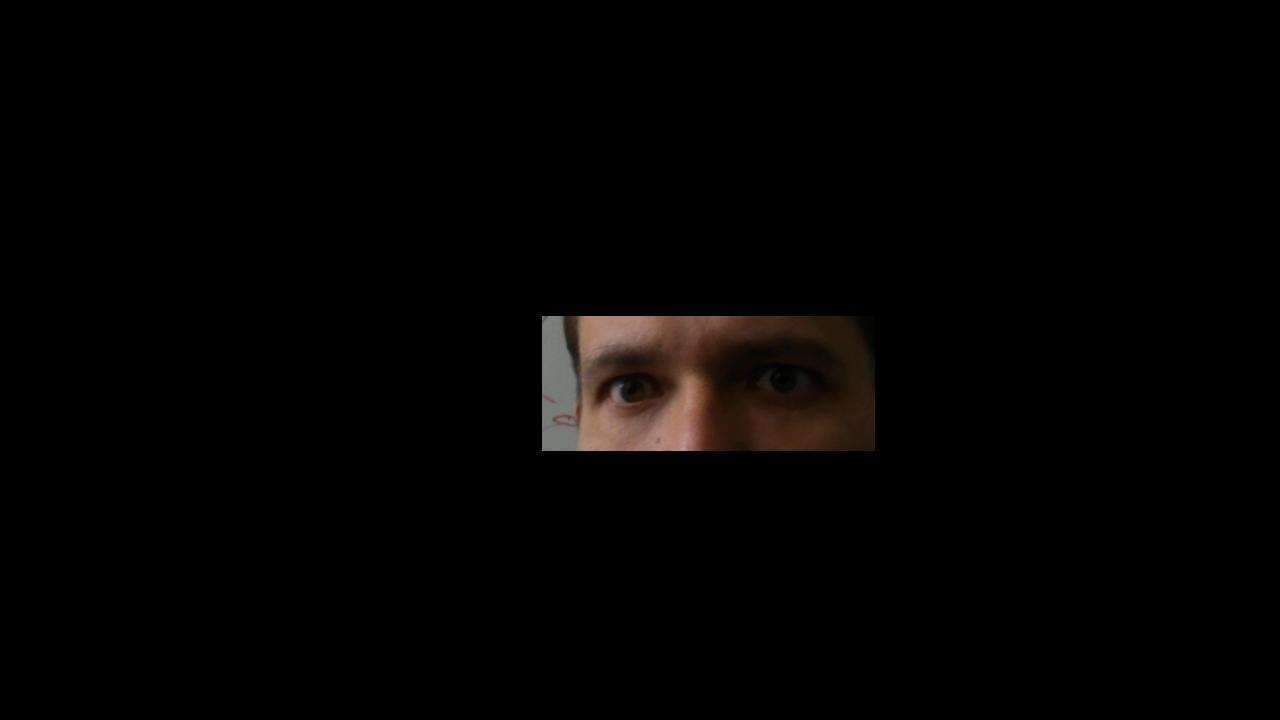eye: (772, 368, 802, 394), (618, 379, 646, 400)
